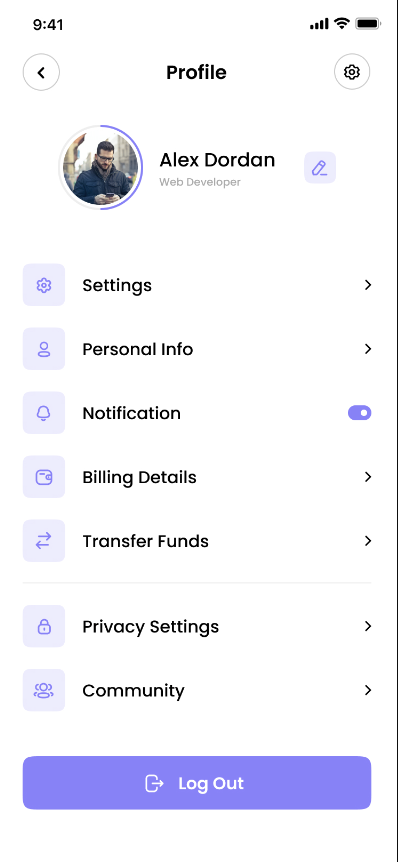AppBar: (1, 33, 398, 94)
